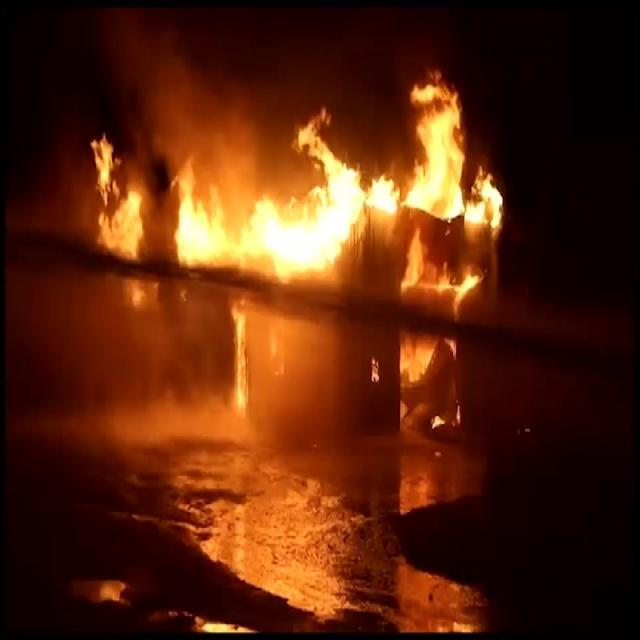Fire: (170, 104, 400, 284), (400, 66, 465, 222), (401, 225, 484, 311), (90, 132, 144, 264), (464, 164, 506, 232), (231, 302, 249, 414), (399, 340, 438, 383), (122, 282, 158, 312), (430, 415, 446, 430), (371, 356, 380, 382)
Smoke: (137, 19, 255, 199), (72, 287, 232, 400), (248, 310, 335, 404), (90, 401, 250, 440)
